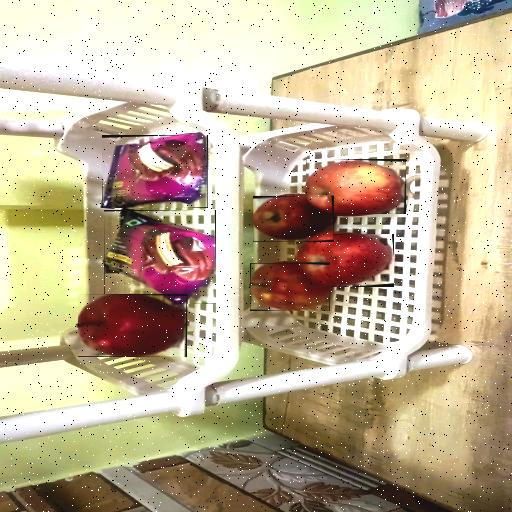Apple: (78, 294, 187, 357), (306, 159, 406, 214), (296, 234, 394, 287), (250, 263, 330, 311), (253, 196, 334, 242)
Choco Pie: (104, 210, 216, 304), (102, 135, 208, 208)
